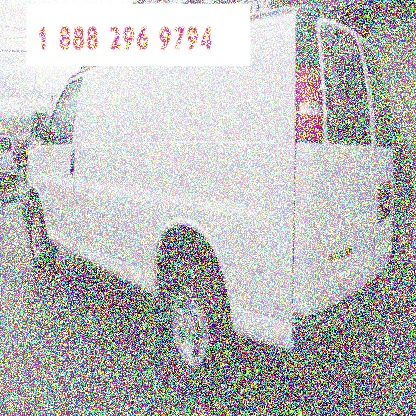Vehicle: (12, 2, 402, 389)
